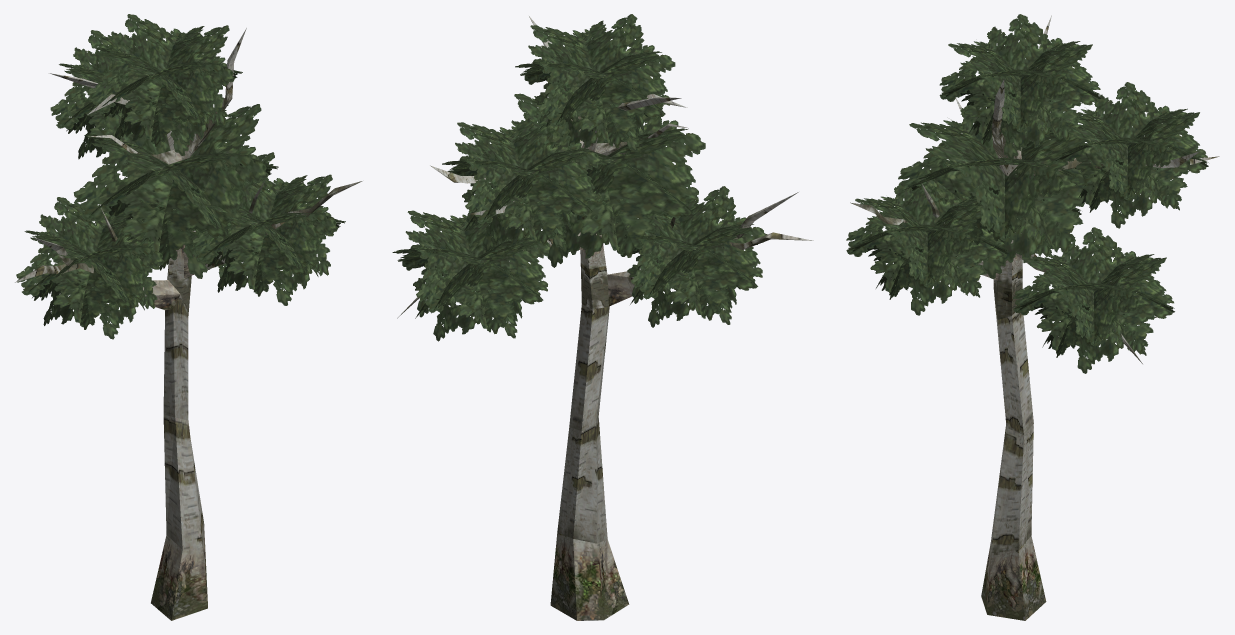
Rendered from C1SNBIRCH_H.obj.
The picture shows the model from 3 angles, left to right: view 1: azimuth 30°, elevation 25°; view 2: azimuth 150°, elevation 25°; view 3: azimuth 270°, elevation 25°; orthographic projection. The views are drawn at different scales.
Parts seen in each view (by area): view 1: Node 0; view 2: Node 0; view 3: Node 0.
Part boxes in pixels (x1=…): Node 0: x1=15, y1=14, x2=362, y2=620; Node 0: x1=392, y1=14, x2=813, y2=620; Node 0: x1=846, y1=14, x2=1219, y2=620.
Bounding box in the file's own units: 11.5 × 18.29 × 11.17.
